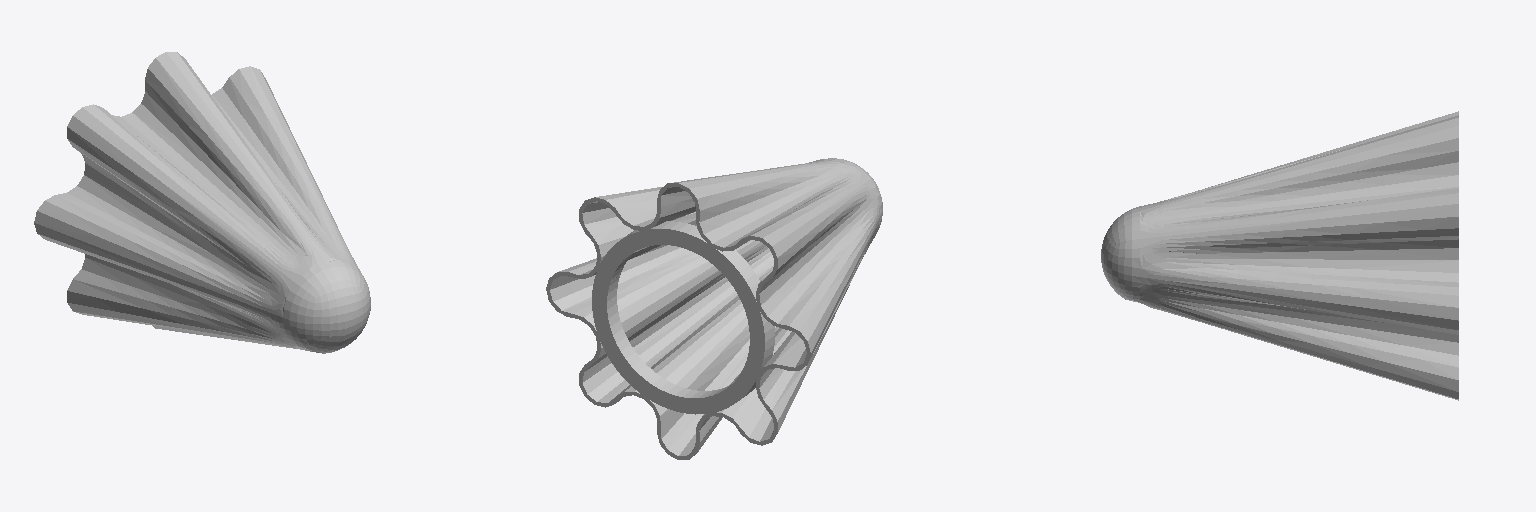
Rendered from ghost.obj.
The picture shows the model from 3 angles: view 1: azimuth 30°, elevation 25°; view 2: azimuth 150°, elevation 25°; view 3: azimuth 270°, elevation 25°; orthographic projection.
Visible parts, largest first — view 1: obj_0; view 2: obj_0; view 3: obj_0.
Boxes of the visible parts, box(x1,y1,x2,y2) form: obj_0: box(34, 52, 370, 353); obj_0: box(546, 158, 882, 459); obj_0: box(1101, 111, 1458, 400).
Bounding box in the file's own units: 59.75 × 59.75 × 70.